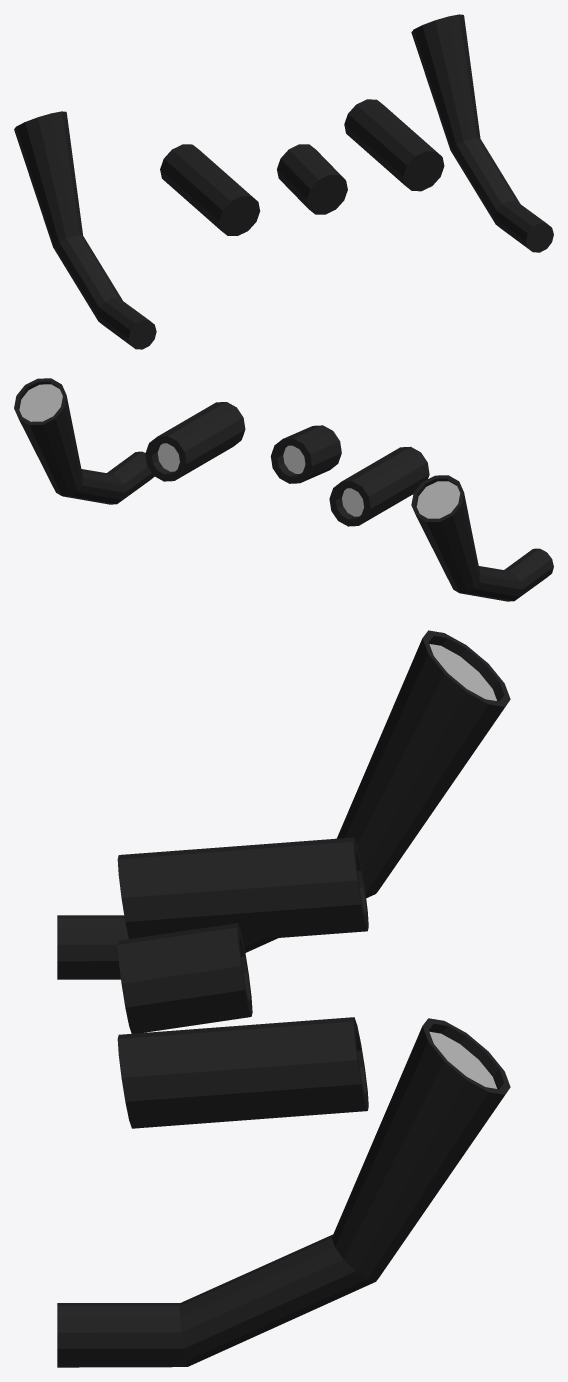
File: exhaust4.glb
3 renders of one model, top to bottom at view 1: azimuth 30°, elevation 25°; view 2: azimuth 150°, elevation 25°; view 3: azimuth 270°, elevation 25°, orthographic. The views are drawn at different scales.
Parts seen in each view (by area): view 1: exhaust4; view 2: exhaust4; view 3: exhaust4.
Boxes of the visible parts, x1,y1,x2,y2 form: exhaust4: (14, 14, 553, 349); exhaust4: (14, 378, 553, 601); exhaust4: (57, 630, 510, 1367).
Size of the model in its own units: 2.54 by 0.9247 by 1.12.
Materials: 1 (1 with a texture image).
